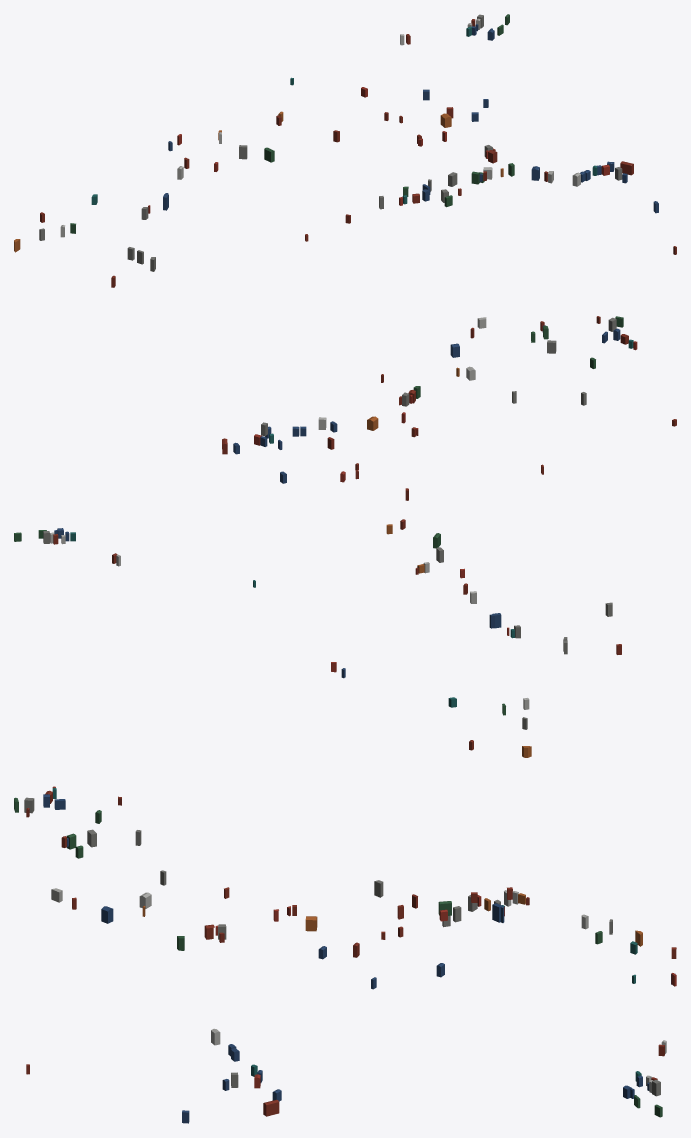
Rendered from near-15-27365-14859.e55b21f5.glb.
3 renders of one model, top to bottom at view 1: azimuth 30°, elevation 25°; view 2: azimuth 150°, elevation 25°; view 3: azimuth 270°, elevation 25°, orthographic. The views are drawn at different scales.
Size of the model in its own units: 1140 by 444 by 1091.
